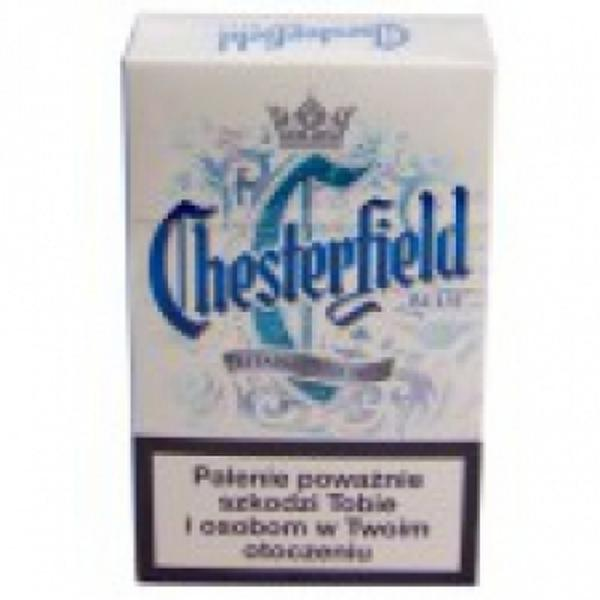chesterfield_blue: (132, 64, 478, 584)
